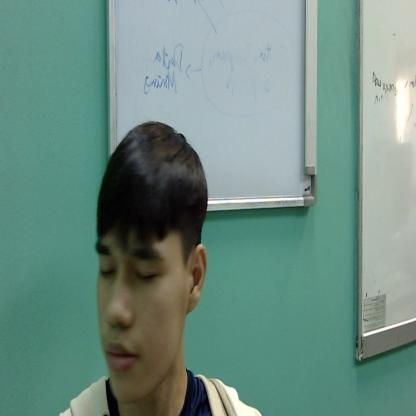Closed-Eyes: (96, 228, 174, 295)
